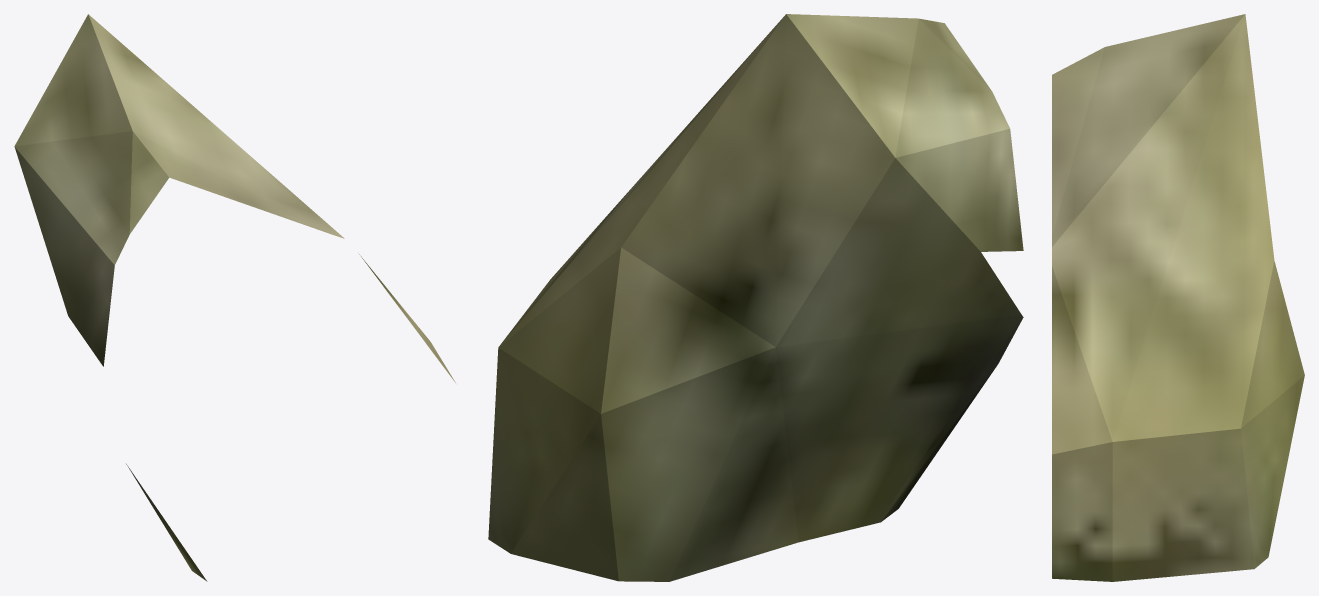
The picture shows the model from 3 angles, left to right: view 1: azimuth 30°, elevation 25°; view 2: azimuth 150°, elevation 25°; view 3: azimuth 270°, elevation 25°; orthographic projection. The views are drawn at different scales.
Size of the model in its own units: 0.4652 by 0.6037 by 0.3091.
1 material, 1 textured.
